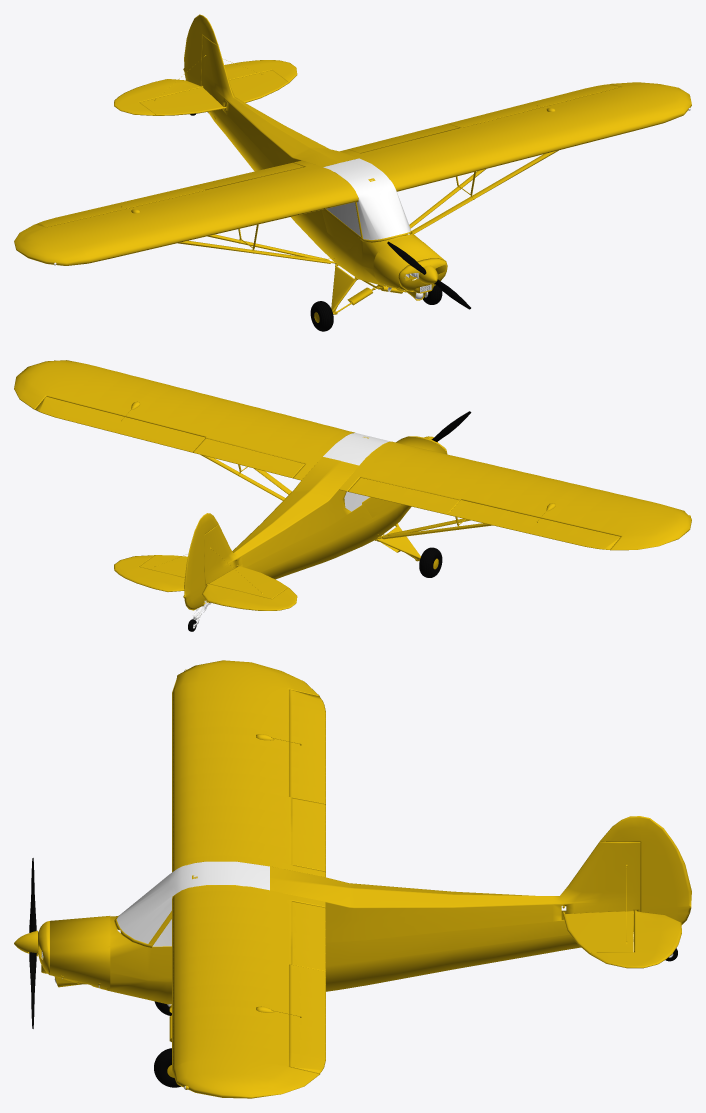
File: piper.glb
3 renders of one model, top to bottom at view 1: azimuth 30°, elevation 25°; view 2: azimuth 150°, elevation 25°; view 3: azimuth 270°, elevation 25°, orthographic. The views are drawn at different scales.
Visible parts, largest first — view 1: fuselage_wings, fuselage01, windshield01, horizontal_stab01, elevator01, fuselage02, aileron_L01, rudder01, aileron_R01, wing_support_L01, wing_support_R01, Propeller (+6 smaller); view 2: fuselage_wings, fuselage01, aileron_L01, aileron_R01, elevator01, horizontal_stab01, flap_L01, flap_R01, rudder01, windshield01, wing_support_R01, wing_support_L01 (+3 smaller); view 3: fuselage_wings, fuselage01, rudder01, windshield01, fuselage02, aileron_R01, aileron_L01, elevator01, horizontal_stab01, flap_R01, flap_L01, Propeller.
Boxes of the visible parts, x1,y1,x2,y2 form: fuselage_wings: [14, 82, 691, 265]; fuselage01: [201, 35, 421, 285]; windshield01: [323, 158, 410, 239]; horizontal_stab01: [139, 70, 288, 115]; elevator01: [114, 60, 297, 115]; fuselage02: [373, 237, 447, 291]; aileron_L01: [448, 84, 620, 127]; rudder01: [183, 14, 218, 85]; aileron_R01: [36, 186, 205, 227]; wing_support_L01: [409, 150, 558, 233]; wing_support_R01: [178, 234, 331, 263]; Propeller: [387, 241, 470, 309]; fuselage_wings: [14, 360, 691, 550]; fuselage01: [204, 433, 411, 602]; aileron_L01: [35, 396, 205, 452]; aileron_R01: [448, 500, 620, 549]; elevator01: [114, 555, 297, 610]; horizontal_stab01: [139, 555, 288, 599]; flap_L01: [193, 438, 304, 478]; flap_R01: [348, 477, 459, 514]; rudder01: [183, 513, 218, 610]; windshield01: [323, 433, 390, 465]; wing_support_R01: [382, 518, 492, 539]; wing_support_L01: [200, 454, 291, 500]; fuselage_wings: [172, 660, 325, 1098]; fuselage01: [107, 841, 640, 1004]; rudder01: [600, 816, 691, 924]; windshield01: [116, 861, 269, 943]; fuselage02: [38, 916, 110, 987]; aileron_R01: [289, 689, 325, 804]; aileron_L01: [289, 964, 325, 1073]; elevator01: [589, 910, 681, 968]; horizontal_stab01: [562, 905, 633, 953]; flap_R01: [292, 798, 325, 871]; flap_L01: [292, 901, 325, 971]; Propeller: [14, 858, 37, 1028].
Bounding box in the file's own units: 10.71 × 2.7 × 7.06.
